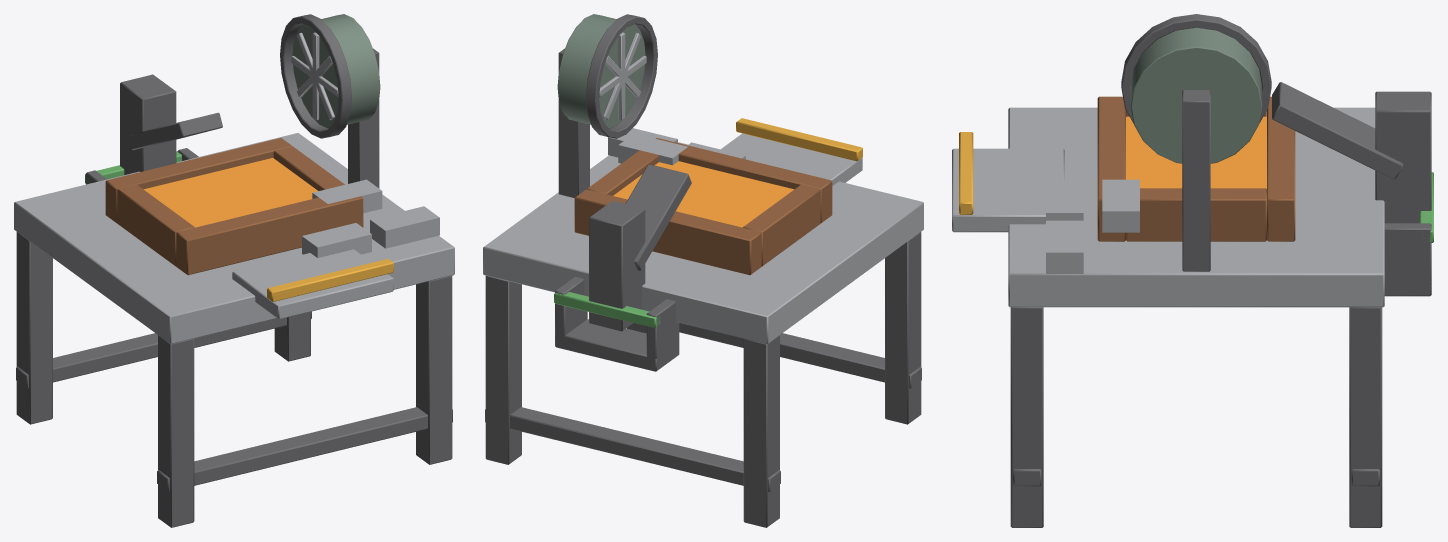
File: feCasterElectric.fbx
The picture shows the model from 3 angles, left to right: view 1: azimuth 30°, elevation 25°; view 2: azimuth 150°, elevation 25°; view 3: azimuth 270°, elevation 25°; orthographic projection. The views are drawn at different scales.
Parts seen in each view (by area): view 1: feCasterElectric_Base, feCasterElectric_Fan, FeCastMetal.001, FeCastReady.001; view 2: feCasterElectric_Base, feCasterElectric_Fan, FeCastMetal.001, FeCastReady.001; view 3: feCasterElectric_Base, feCasterElectric_Fan, FeCastReady.001, FeCastMetal.001.
Boxes of the visible parts, bbox=[...] form: feCasterElectric_Base: bbox=[14, 74, 454, 527]; feCasterElectric_Fan: bbox=[280, 14, 380, 188]; FeCastMetal.001: bbox=[144, 158, 318, 227]; FeCastReady.001: bbox=[302, 179, 439, 257]; feCasterElectric_Base: bbox=[483, 118, 923, 527]; feCasterElectric_Fan: bbox=[557, 14, 657, 197]; FeCastMetal.001: bbox=[613, 161, 793, 227]; FeCastReady.001: bbox=[608, 128, 745, 165]; feCasterElectric_Base: bbox=[952, 82, 1433, 527]; feCasterElectric_Fan: bbox=[1121, 14, 1271, 271]; FeCastReady.001: bbox=[1046, 179, 1139, 273]; FeCastMetal.001: bbox=[1126, 116, 1266, 188].
Size of the model in its own units: 0.84 by 1.12 by 1.02.
